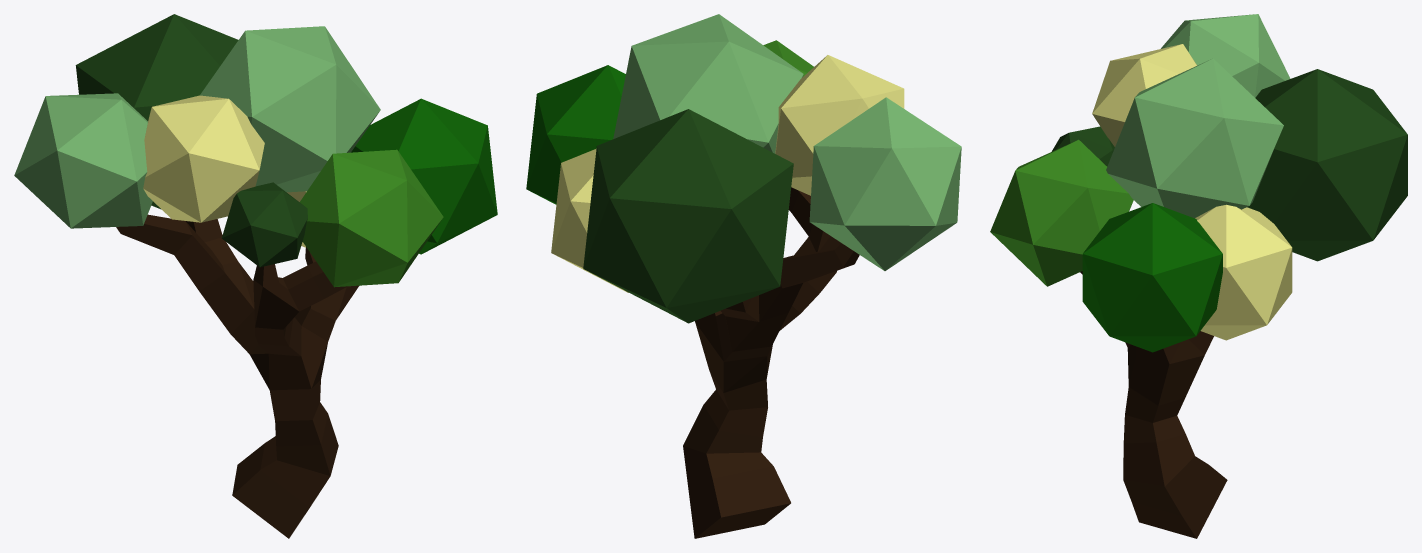
Rendered from Tree2.1.fbx.
3 renders of one model, left to right at view 1: azimuth 30°, elevation 25°; view 2: azimuth 150°, elevation 25°; view 3: azimuth 270°, elevation 25°, orthographic. The views are drawn at different scales.
Visible parts, largest first — view 1: Plane.001; view 2: Plane.001; view 3: Plane.001.
Part boxes in pixels (x1=…): Plane.001: x1=14, y1=14, x2=497, y2=538; Plane.001: x1=526, y1=14, x2=961, y2=538; Plane.001: x1=990, y1=14, x2=1407, y2=538.
Size of the model in its own units: 442 by 480 by 393.
6 materials, 6 textured.
